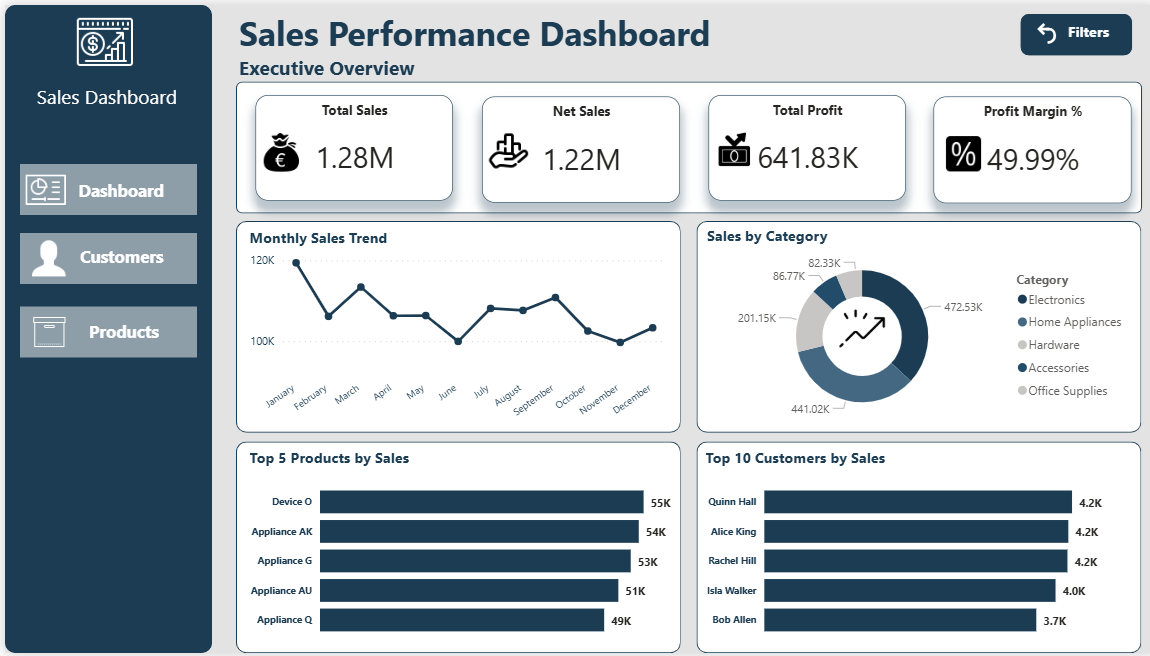

What the dashboard file says about the page in this screenshot:
{"tool":"powerbi","page":{"name":"Executive Overview","canvas":[1280,720],"ordinal":0},"visuals":[{"type":"shape","box":[0,0,230,720],"z":0},{"type":"actionButton","box":[16.7,176.7,196.7,56.7],"z":0,"group":"g1"},{"type":"shape","box":[256.7,85,1006.7,146.7],"z":1000},{"type":"image","box":[16.7,176.7,56.7,56.7],"z":1000,"group":"g1"},{"type":"textbox","box":[255.1,0,619.8,102],"z":2000},{"type":"textbox","box":[77.3,192.3,130,31.7],"z":2000,"group":"g1"},{"type":"shape","box":[255.9,240,494.3,235.2],"z":3000},{"type":"actionButton","box":[16.7,253.4,196.7,56.7],"z":3000,"group":"g1"},{"type":"card","title":"Total Sales","fields":{"Values":["Sales.Total Sales"]},"box":[278.1,100.1,219.3,117.6],"z":4000},{"type":"textbox","box":[78.4,266.7,138.3,43.3],"z":4000,"group":"g1"},{"type":"card","title":"Net Sales","fields":{"Values":["Sales.Net Sales"]},"box":[530,102,220,118],"z":5000},{"type":"actionButton","box":[16.7,335,196.7,56.7],"z":5000,"group":"g1"},{"type":"card","title":"Total Profit","fields":{"Values":["Sales.Total Profit"]},"box":[782,100.1,219.3,117.6],"z":6000},{"type":"textbox","box":[88.4,340,108.3,51.7],"z":6000,"group":"g1"},{"type":"card","title":"Profit Margin %","fields":{"Values":["Sales.Profit Margin %"]},"box":[1031.7,101.7,220,118.3],"z":7000},{"type":"image","box":[21.7,325,55,76.7],"z":7000,"group":"g1"},{"type":"shape","box":[767.7,240,494.3,235.2],"z":8000},{"type":"image","box":[20,253.4,56.7,56.7],"z":8000,"group":"g1"},{"type":"lineChart","title":"Monthly Sales Trend","fields":{"Category":["Sales.Date.Variation.Date Hierarchy.Month"],"Y":["Sales.Total Sales"]},"box":[267,246.4,472.1,222.5],"z":9000},{"type":"donutChart","title":"Sales by Category","fields":{"Category":["Products.Category"],"Y":["Sales.Total Sales"]},"box":[775.6,244.8,480,224.1],"z":10000},{"type":"image","box":[916.5,328.8,68,64.3],"z":11000},{"type":"shape","box":[255.9,484.8,494.3,235.2],"z":12000},{"type":"shape","box":[767.7,484.8,494.3,235.2],"z":13000},{"type":"barChart","title":"Top 10 Customers by Sales","fields":{"Y":["Sum(Sales.Price)"],"Category":["Customers.Name"]},"box":[772.9,491.3,478.1,223],"z":14000},{"type":"shape","box":[1128,10,124,46],"z":15000},{"type":"actionButton","box":[1142,10,32,42],"z":16000},{"type":"textbox","box":[1162,14,80,42],"z":17000},{"type":"image","box":[278.1,135.1,57.2,57.2],"z":18000},{"type":"image","box":[530,134,58,58],"z":19000},{"type":"image","box":[782,133.5,57.2,57.2],"z":20000},{"type":"image","box":[1031.7,136.7,66.7,56.7],"z":21000},{"type":"barChart","title":"Top 5 Products by Sales","fields":{"Category":["Products.Product_Name"],"Y":["Sales.Total Sales"]},"box":[266.5,491.3,478.1,223],"z":22000},{"type":"group","id":"g1","title":"Group 1","box":[16.7,176.7,200,225],"z":23000},{"type":"image","box":[60,0,101.7,81.7],"z":24000,"group":"g2"},{"type":"textbox","box":[10,81.7,206.7,50],"z":25000,"group":"g2"},{"type":"group","id":"g2","title":"Group 2","box":[10,0,206.7,131.7],"z":25001}]}

Visuals, with their boxes in screenshot pixels (x1, y1, x2, y2), scaled from the page's 1280x720 canvas onto the 1150x656 screenshot:
shape: l=0, t=0, r=207, b=655
actionButton: l=15, t=161, r=192, b=213
shape: l=231, t=77, r=1135, b=211
image: l=15, t=161, r=66, b=213
textbox: l=229, t=0, r=786, b=93
textbox: l=69, t=175, r=186, b=204
shape: l=230, t=219, r=674, b=433
actionButton: l=15, t=231, r=192, b=283
"Total Sales" card: l=250, t=91, r=447, b=198
textbox: l=70, t=243, r=195, b=282
"Net Sales" card: l=476, t=93, r=674, b=200
actionButton: l=15, t=305, r=192, b=357
"Total Profit" card: l=703, t=91, r=900, b=198
textbox: l=79, t=310, r=177, b=357
"Profit Margin %" card: l=927, t=93, r=1125, b=200
image: l=19, t=296, r=69, b=366
shape: l=690, t=219, r=1134, b=433
image: l=18, t=231, r=69, b=283
"Monthly Sales Trend" lineChart: l=240, t=224, r=664, b=427
"Sales by Category" donutChart: l=697, t=223, r=1128, b=427
image: l=823, t=300, r=885, b=358
shape: l=230, t=442, r=674, b=655
shape: l=690, t=442, r=1134, b=655
"Top 10 Customers by Sales" barChart: l=694, t=448, r=1124, b=651
shape: l=1013, t=9, r=1125, b=51
actionButton: l=1026, t=9, r=1055, b=47
textbox: l=1044, t=13, r=1116, b=51
image: l=250, t=123, r=301, b=175
image: l=476, t=122, r=528, b=175
image: l=703, t=122, r=754, b=174
image: l=927, t=125, r=987, b=176
"Top 5 Products by Sales" barChart: l=239, t=448, r=669, b=651
"Group 1" group: l=15, t=161, r=195, b=366
image: l=54, t=0, r=145, b=74
textbox: l=9, t=74, r=195, b=120
"Group 2" group: l=9, t=0, r=195, b=120
